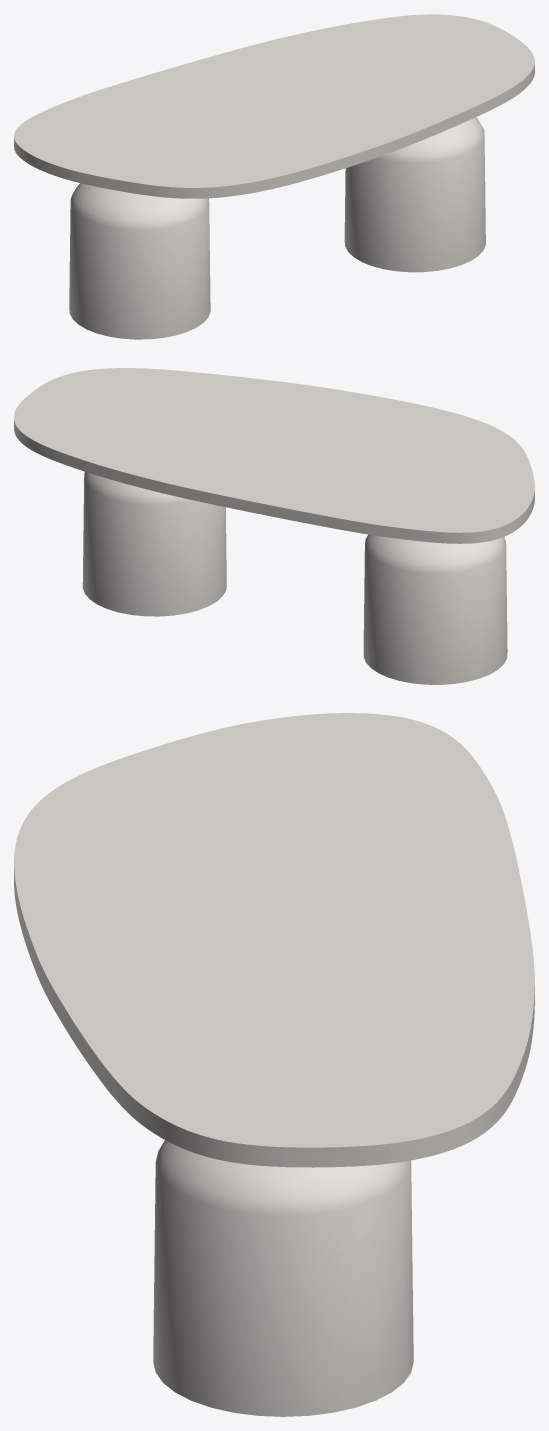
Rendered from pearlwhite_leaf2_standard_tornado.glb.
3 views of the same model, one above another, from view 1: azimuth 30°, elevation 25°; view 2: azimuth 150°, elevation 25°; view 3: azimuth 270°, elevation 25° (orthographic). The views are drawn at different scales.
Parts seen in each view (by area): view 1: standard_leaf2, tornado; view 2: standard_leaf2, tornado; view 3: standard_leaf2, tornado.
Part boxes in pixels (box(x1,y1,x2,y2)): standard_leaf2: box(14, 14, 534, 198); tornado: box(69, 117, 485, 339); standard_leaf2: box(14, 368, 534, 543); tornado: box(82, 472, 507, 684); standard_leaf2: box(14, 713, 534, 1167); tornado: box(153, 1140, 413, 1416).
Bounding box in the file's own units: 7.5 × 2.52 × 3.8.
1 material, 1 textured.
